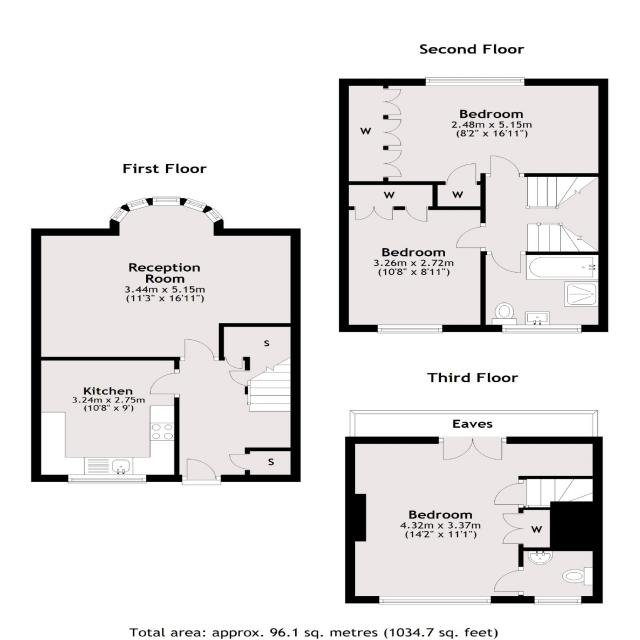DOOR: (181, 458, 222, 486), (178, 338, 220, 361), (484, 154, 526, 177), (493, 566, 524, 596), (149, 368, 180, 398), (456, 222, 486, 252), (486, 251, 526, 273), (494, 479, 524, 508)
DOUBLE DOOR: (441, 437, 503, 461)
ROOM: (31, 197, 301, 361), (345, 436, 603, 605), (338, 77, 609, 185), (338, 206, 486, 334), (31, 357, 180, 484)
WINDOW: (424, 77, 526, 87), (379, 596, 492, 605), (501, 324, 583, 334), (67, 474, 147, 484), (376, 324, 444, 334), (534, 596, 582, 605), (182, 198, 208, 213), (125, 197, 150, 212), (203, 208, 225, 224), (109, 207, 129, 223), (152, 196, 181, 206)
